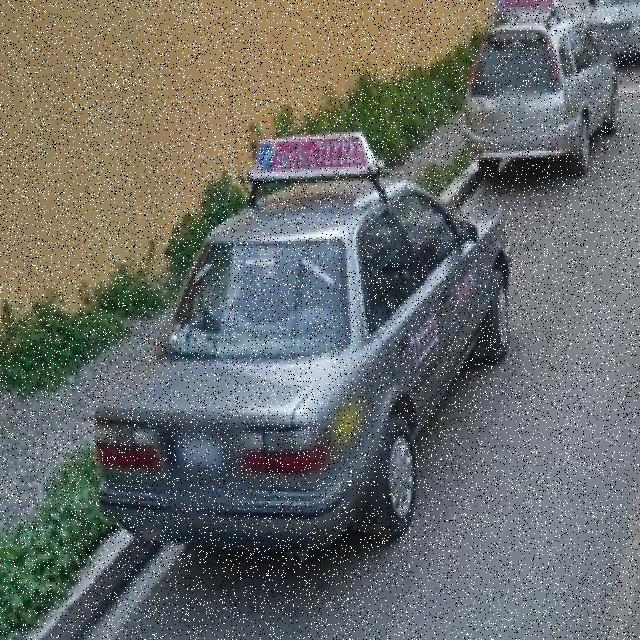cars: (98, 184, 519, 570), (481, 18, 615, 166)
